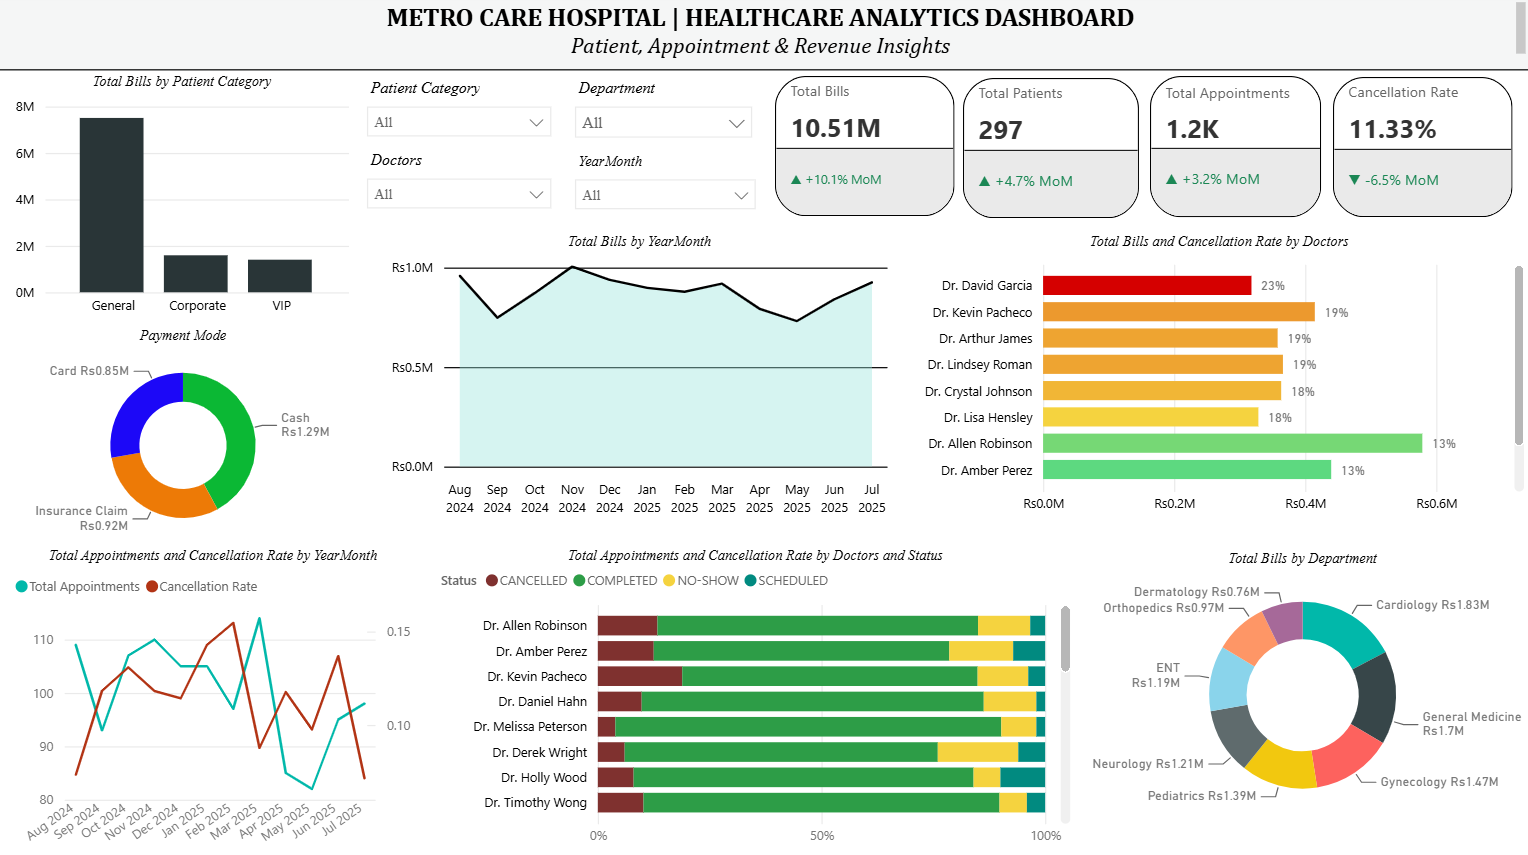

Layout of this report page (visuals, bound fields, positions):
{"tool":"powerbi","page":{"name":"MetroCare Hospital Dashboard","canvas":[1280,720],"ordinal":8},"visuals":[{"type":"textbox","box":[0,0,1280,63],"z":0},{"type":"cardVisual","fields":{"Data":["Measures Table.Total Patients"]},"box":[800.9,64.5,157.3,127.6],"z":0,"group":"g1"},{"type":"cardVisual","fields":{"Data":["Measures Table.Total Appointments"]},"box":[957.2,63,154,128.3],"z":1000,"group":"g1"},{"type":"donutChart","fields":{"Category":["public departments.Department"],"Y":["Measures Table.Total Bills"]},"box":[900.5,463.2,378.7,228.6],"z":1000},{"type":"cardVisual","fields":{"Data":["Measures Table.Cancellation Rate"]},"box":[1109.5,64.1,160.1,127.6],"z":2000,"group":"g1"},{"type":"lineChart","fields":{"Category":["DimDate.YearMonth"],"Y":["Measures Table.Total Bills"]},"box":[323.5,198.4,425.2,244.1],"z":2000},{"type":"cardVisual","fields":{"Data":["Measures Table.Total Bills"]},"box":[643.5,62.9,160.4,127.8],"z":3000,"group":"g1"},{"type":"hundredPercentStackedBarChart","fields":{"Y":["Measures Table.Total Appointments"],"Series":["public appointments.Status"],"Category":["public doctors.Doctors"]},"box":[364.9,461.5,535.6,258.8],"z":3000},{"type":"columnChart","fields":{"Category":["public patients.Patient Category"],"Y":["Measures Table.Total Bills"]},"box":[9.5,65.6,288.9,212.2],"z":4000},{"type":"donutChart","title":"Payment Mode","fields":{"Y":["Measures Table.Self-Pay Insurance"],"Category":["public appointments.payment_mode"]},"box":[9.7,277.7,288.9,183.7],"z":4000,"group":"g1"},{"type":"group","id":"g1","title":"Group 1","box":[9.7,62.9,1259.9,398.5],"z":5000},{"type":"slicer","fields":{"Values":["public departments.Department"]},"box":[471.9,65.2,167.9,60.1],"z":6000},{"type":"slicer","fields":{"Values":["DimDate.YearMonth"]},"box":[471.9,127,171.2,65.2],"z":7000},{"type":"slicer","fields":{"Values":["public patients.Patient Category"]},"box":[298.2,65.2,173.7,66.8],"z":8000},{"type":"lineChart","fields":{"Category":["DimDate.YearMonth"],"Y":["Measures Table.Total Appointments"],"Y2":["Measures Table.Cancellation Rate"]},"box":[9.5,461.5,340.7,258.8],"z":9000},{"type":"clusteredBarChart","fields":{"Category":["public doctors.Doctors"],"Y":["Measures Table.Total Bills"]},"box":[760.9,198.8,518.7,243.9],"z":10000},{"type":"slicer","fields":{"Values":["public doctors.Doctors"]},"box":[298.2,125.3,173.7,66.8],"z":11000}]}

Visuals, with their boxes in screenshot pixels (x1, y1, x2, y2), scaled from the page's 1280x720 canvas onto the 1528x855 screenshot:
textbox: (0, 0, 1527, 75)
cardVisual - Measures Table.Total Patients: (956, 77, 1144, 228)
cardVisual - Measures Table.Total Appointments: (1143, 75, 1326, 227)
donutChart - public departments.Department x Measures Table.Total Bills: (1075, 550, 1527, 822)
cardVisual - Measures Table.Cancellation Rate: (1324, 76, 1516, 228)
lineChart - DimDate.YearMonth x Measures Table.Total Bills: (386, 236, 894, 525)
cardVisual - Measures Table.Total Bills: (768, 75, 960, 226)
hundredPercentStackedBarChart - Measures Table.Total Appointments x public appointments.Status: (436, 548, 1075, 854)
columnChart - public patients.Patient Category x Measures Table.Total Bills: (11, 78, 356, 330)
"Payment Mode" donutChart: (12, 330, 356, 548)
"Group 1" group: (12, 75, 1516, 548)
slicer - public departments.Department: (563, 77, 764, 149)
slicer - DimDate.YearMonth: (563, 151, 768, 228)
slicer - public patients.Patient Category: (356, 77, 563, 157)
lineChart - DimDate.YearMonth x Measures Table.Total Appointments: (11, 548, 418, 854)
clusteredBarChart - public doctors.Doctors x Measures Table.Total Bills: (908, 236, 1527, 526)
slicer - public doctors.Doctors: (356, 149, 563, 228)
